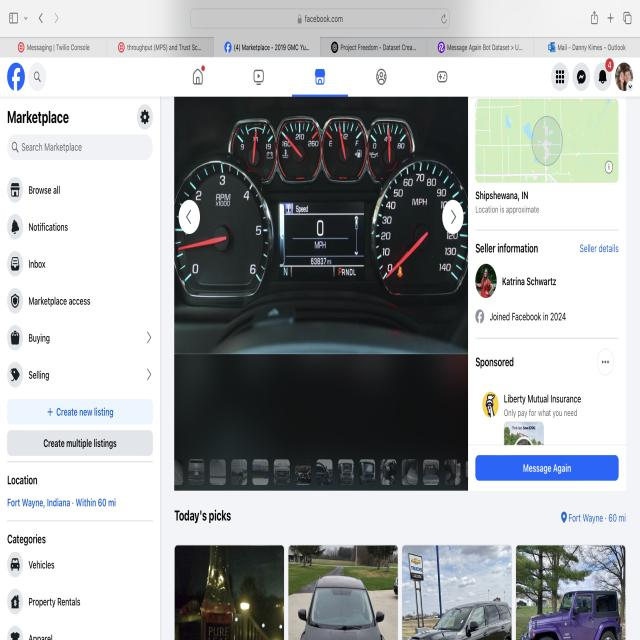message_button: (476, 456, 617, 478)
